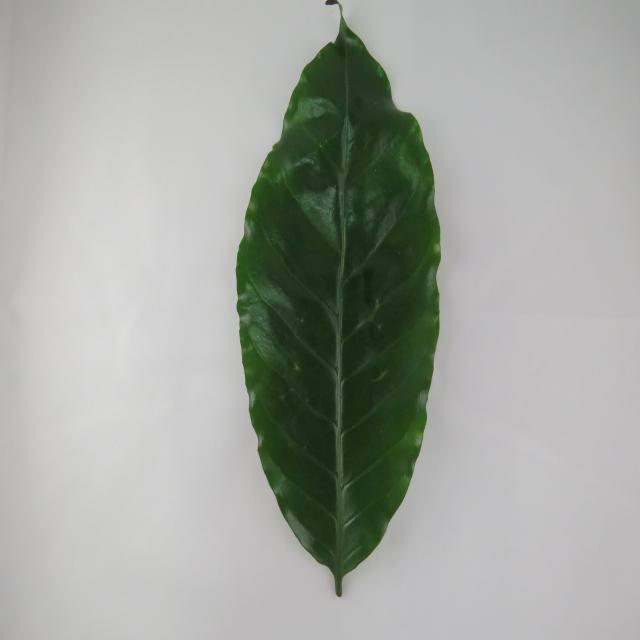DeficienciaNutricional-Calcio: (236, 7, 440, 595)
